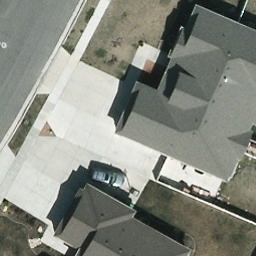car: (89, 169, 129, 188)
